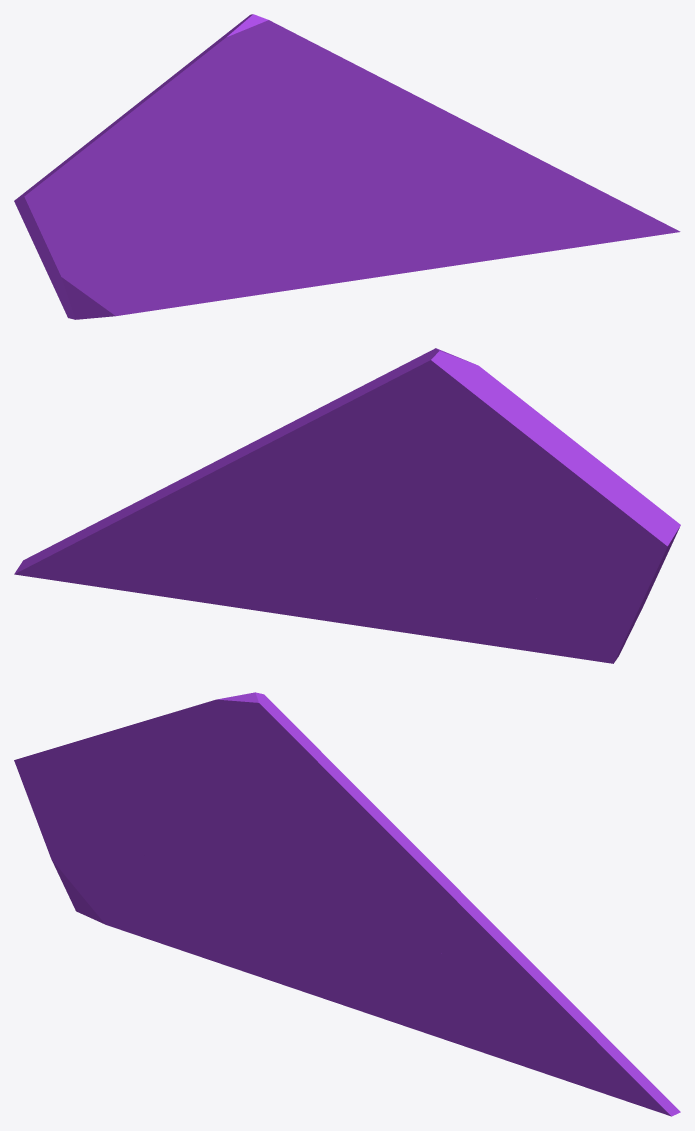
The model's file is Glass_9_6_chunks.fbx.
The picture shows the model from 3 angles, top to bottom: view 1: azimuth 30°, elevation 25°; view 2: azimuth 150°, elevation 25°; view 3: azimuth 330°, elevation 25°; orthographic projection.
Visible parts, largest first — view 1: Glass_9_6_2, Glass_9_6_3, Glass_9_6_0, Glass_9_6_1, Glass_9_6_6, Glass_9_6_5, Glass_9_6_4; view 2: Glass_9_6_3, Glass_9_6_1, Glass_9_6_2, Glass_9_6_5, Glass_9_6_6, Glass_9_6_0, Glass_9_6_4; view 3: Glass_9_6_3, Glass_9_6_2, Glass_9_6_6, Glass_9_6_0, Glass_9_6_1, Glass_9_6_5, Glass_9_6_4.
Part boxes in pixels (x1,y1,x2,y2): Glass_9_6_2: [107, 14, 336, 186]; Glass_9_6_3: [383, 164, 680, 275]; Glass_9_6_0: [65, 183, 301, 319]; Glass_9_6_1: [14, 109, 207, 312]; Glass_9_6_6: [311, 55, 548, 192]; Glass_9_6_5: [237, 88, 346, 259]; Glass_9_6_4: [284, 183, 383, 288]; Glass_9_6_3: [14, 491, 362, 626]; Glass_9_6_1: [458, 453, 680, 658]; Glass_9_6_2: [367, 348, 597, 503]; Glass_9_6_5: [337, 405, 461, 626]; Glass_9_6_6: [156, 383, 380, 520]; Glass_9_6_0: [406, 542, 629, 663]; Glass_9_6_4: [362, 571, 408, 632]; Glass_9_6_3: [373, 932, 680, 1116]; Glass_9_6_2: [97, 692, 327, 851]; Glass_9_6_6: [301, 755, 538, 983]; Glass_9_6_0: [63, 841, 291, 987]; Glass_9_6_1: [14, 735, 198, 882]; Glass_9_6_5: [227, 792, 336, 949]; Glass_9_6_4: [274, 904, 374, 1015].
Bounding box in the file's own units: 876 × 409 × 27.2.
